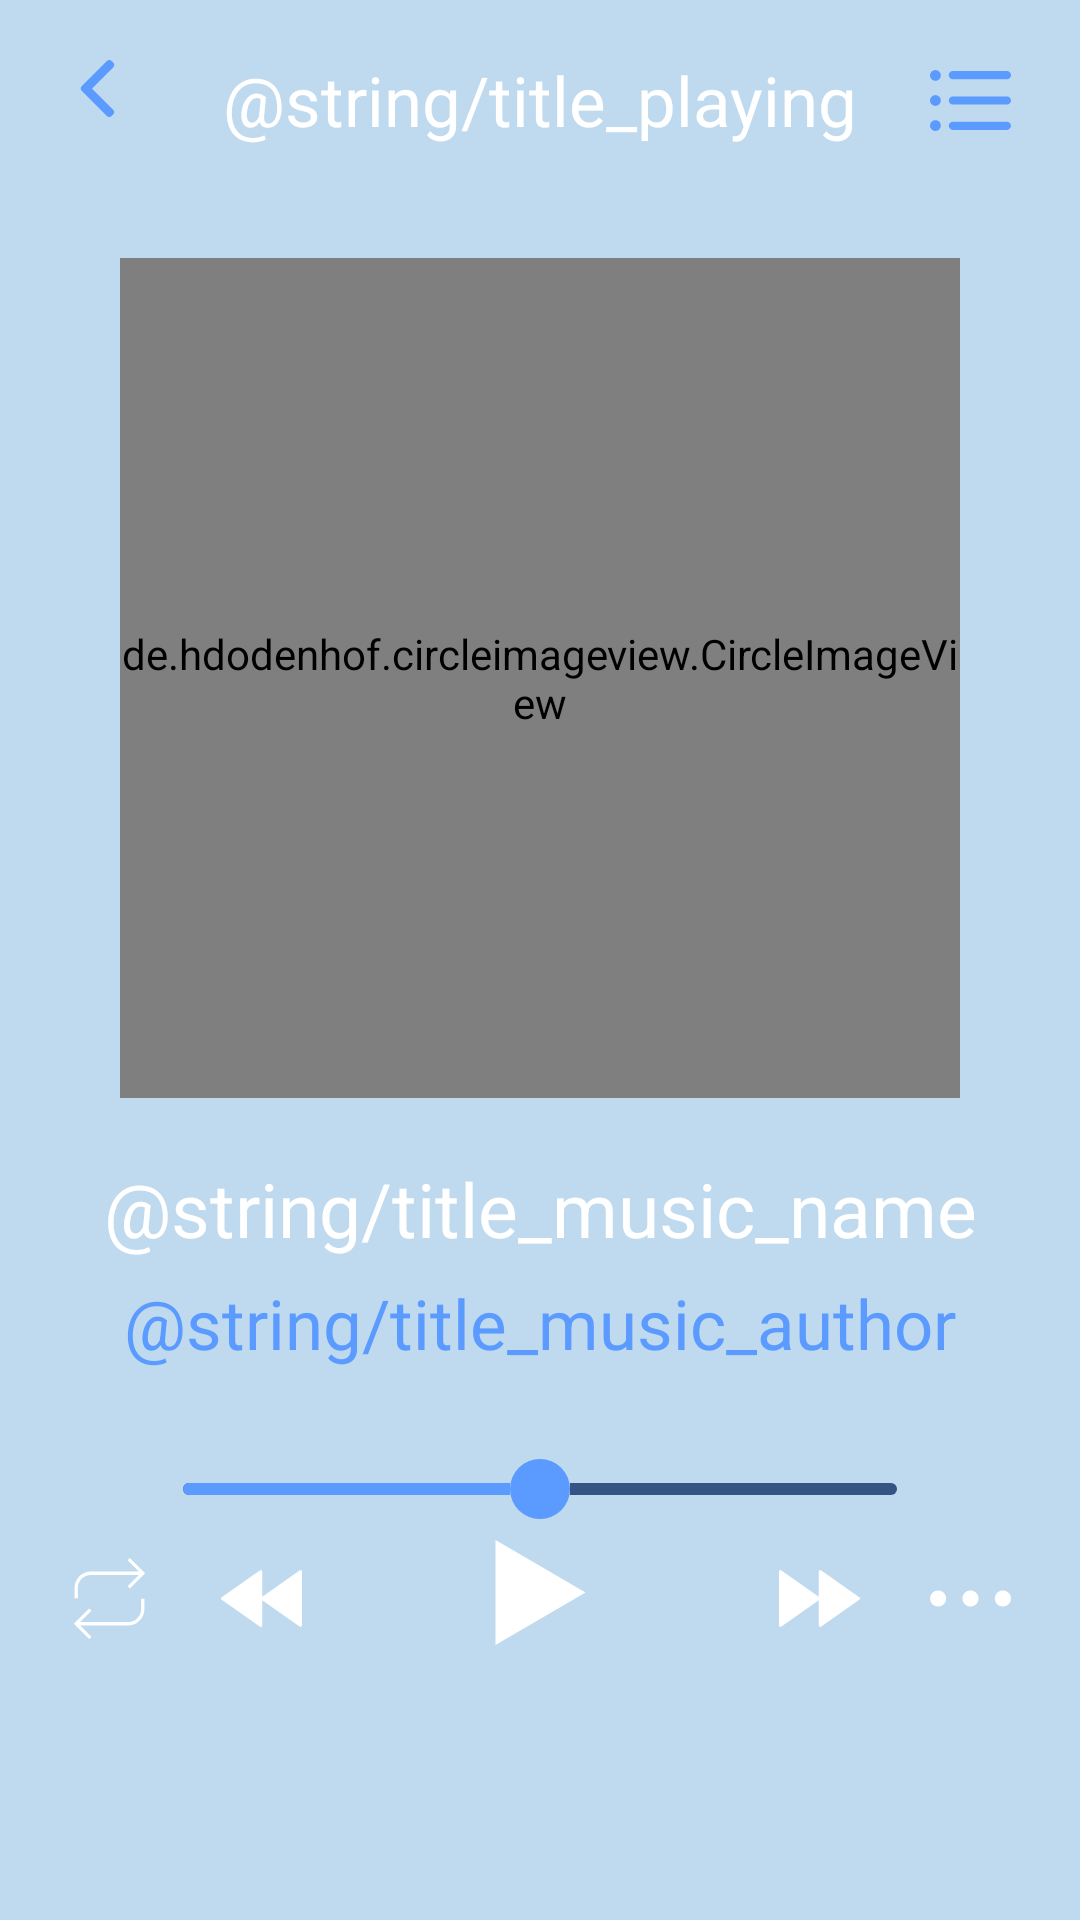

Named icons in this screenshot (1080w x 1920h) and their bounding boxes, (x1, y1, x2, y2):
back: (80, 60, 114, 117)
menu: (930, 70, 1011, 131)
more: (930, 1590, 1011, 1607)
next: (779, 1570, 860, 1627)
play: (495, 1540, 585, 1645)
prev: (221, 1570, 302, 1627)
replay: (74, 1558, 145, 1639)
